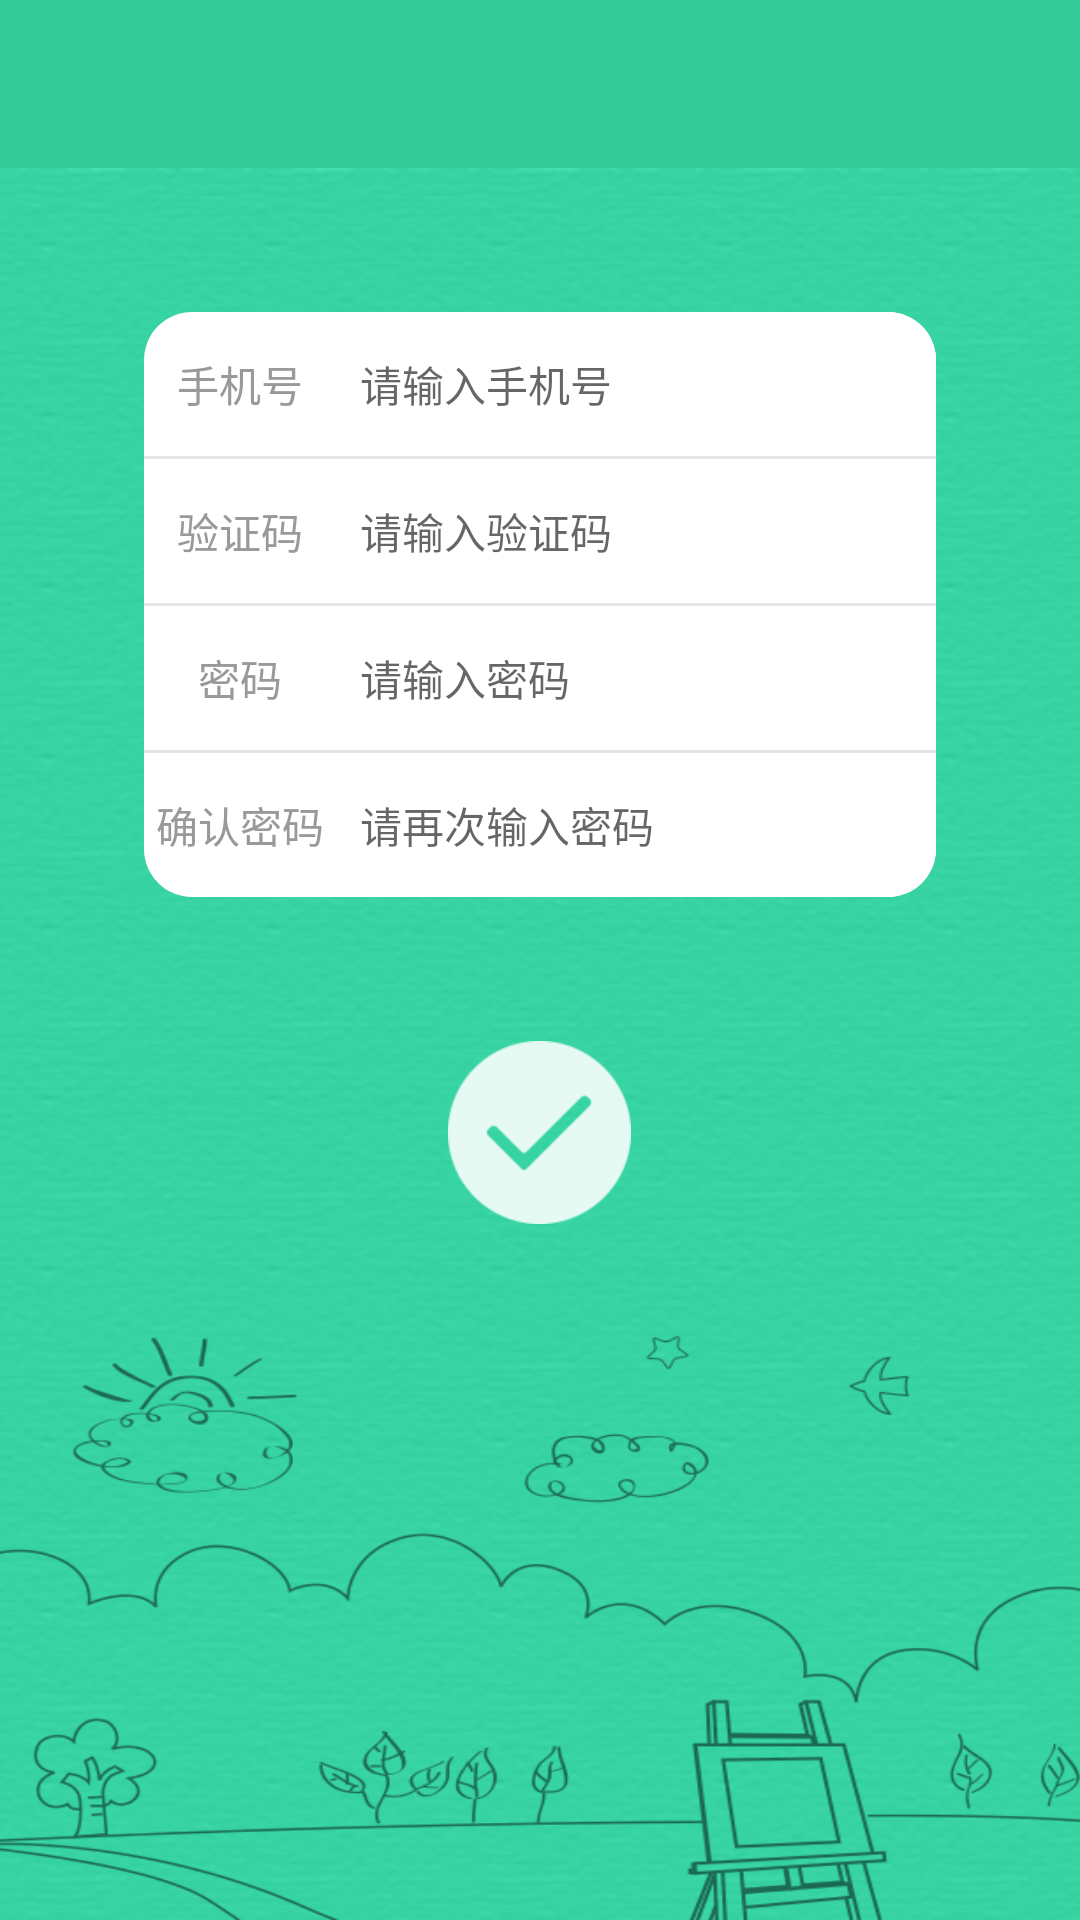

Named icons in this screenshot (1080px×1920px) and their centers, [x,y]:
register sure: [539,1132]
